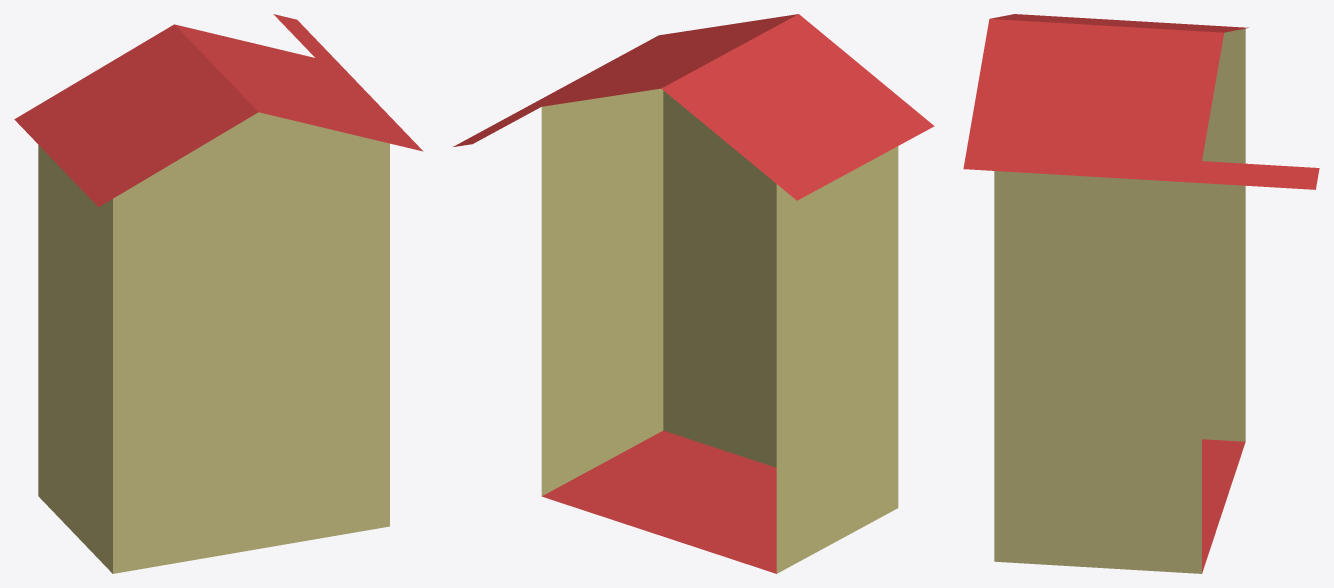
The picture shows the model from 3 angles, left to right: view 1: azimuth 30°, elevation 25°; view 2: azimuth 150°, elevation 25°; view 3: azimuth 270°, elevation 25°; orthographic projection. The views are drawn at different scales.
Size of the model in its own units: 7.59 by 6.49 by 9.53.
